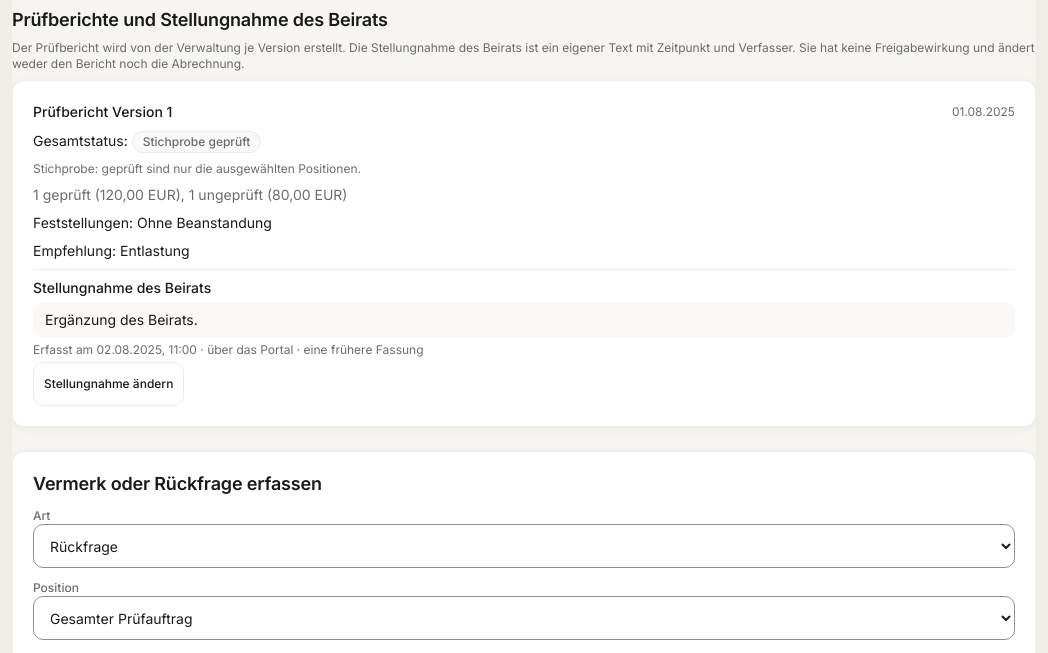
Scenario: BoardEngagementDetail › A76: shows an existing statement with time, source and history and allows replacing it
(page scrolled)
Expected: the text "Ergänzung des Beirats." is shown, [33,302,1015,338]
Expected: the text "Erfasst am" reads "Erfasst am 02.08.2025, 11:00 · über das Portal · eine frühere Fassung", [33,342,424,357]
Click the button "Stellungnahme ändern": {"x": 109, "y": 384} [33,362,184,406]
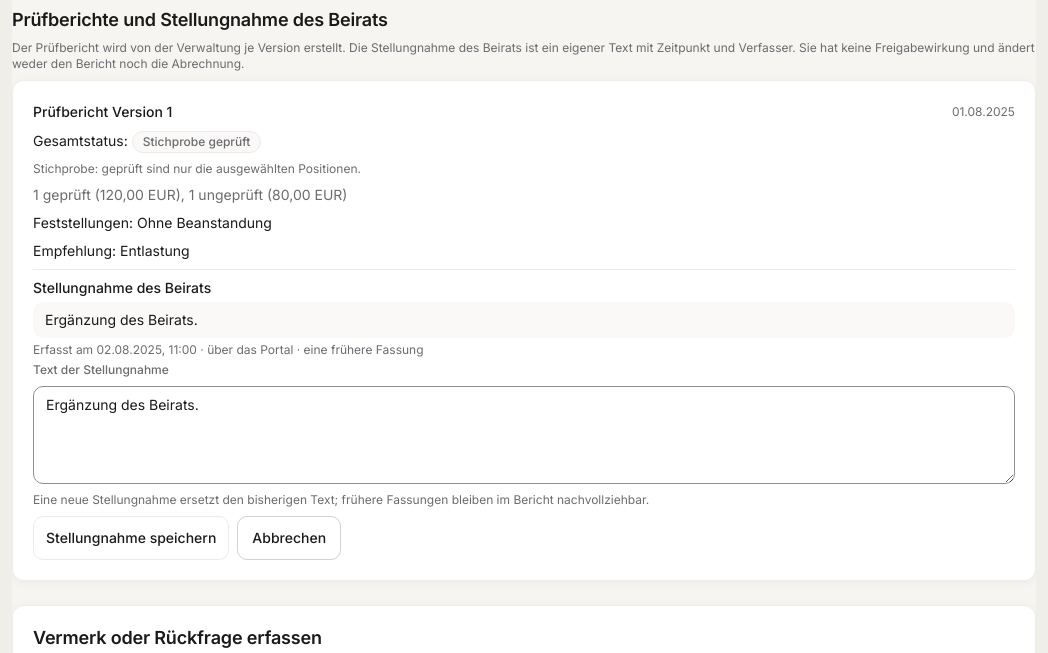
Expected: the text box labelled "Text der Stellungnahme" holds "Ergänzung des Beirats.", [33,386,1015,484]
Click the button "Abbrechen": {"x": 289, "y": 538} [237,516,341,560]
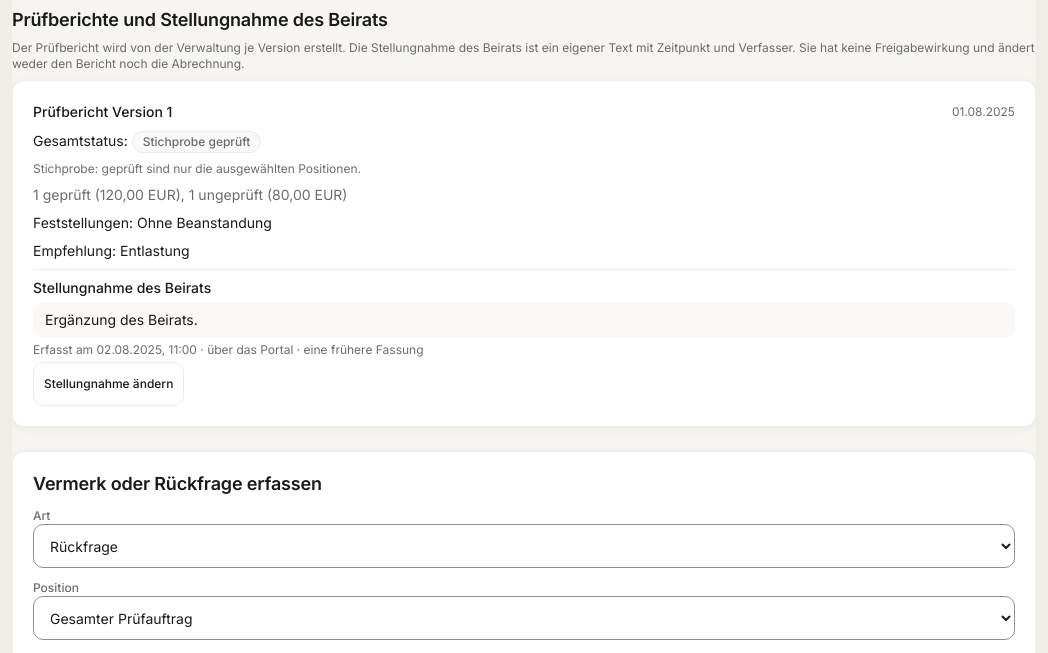
Expected: the label labelled "Text der Stellungnahme" is gone
